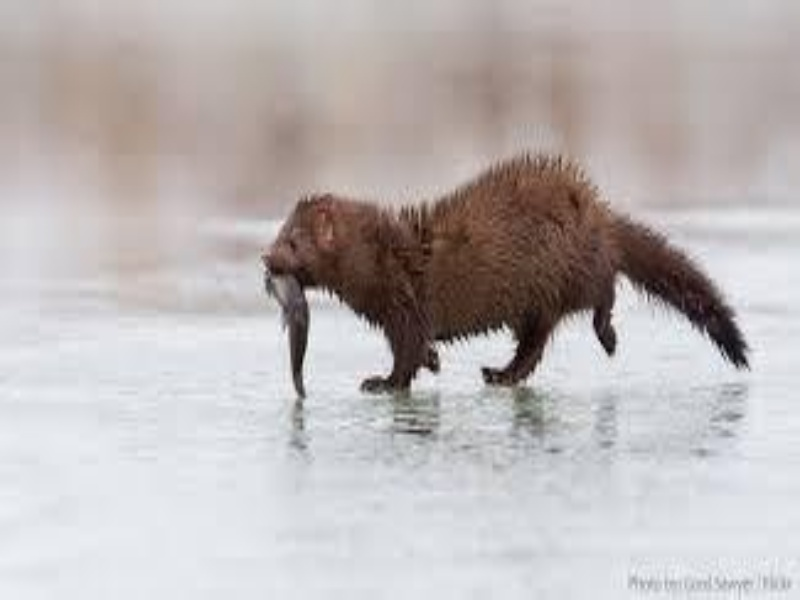minkish: (262, 150, 754, 397)
